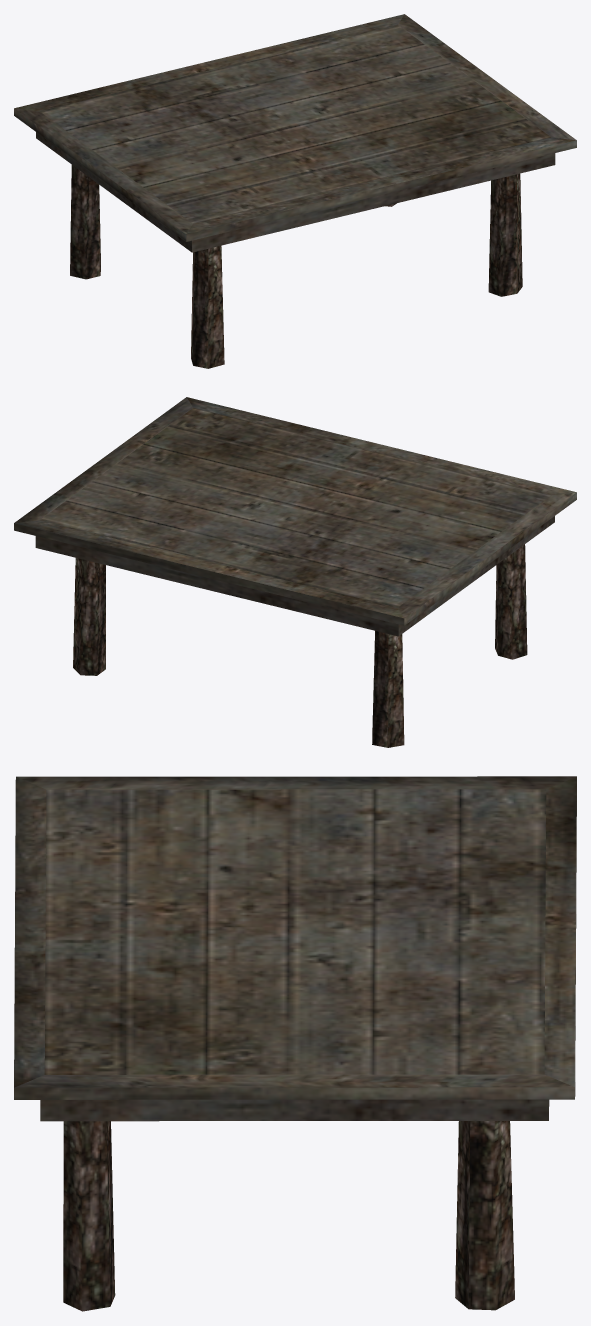
File: d_sg_shouyou_zhuozi01_qt.FBX
3 renders of one model, top to bottom at view 1: azimuth 30°, elevation 25°; view 2: azimuth 150°, elevation 25°; view 3: azimuth 270°, elevation 25°, orthographic. The views are drawn at different scales.
Parts seen in each view (by area): view 1: d_sg_shouyou_zhuzi01_qt; view 2: d_sg_shouyou_zhuzi01_qt; view 3: d_sg_shouyou_zhuzi01_qt.
Boxes of the visible parts, x1,y1,x2,y2 form: d_sg_shouyou_zhuzi01_qt: (14,14,576,368); d_sg_shouyou_zhuzi01_qt: (14,397,576,747); d_sg_shouyou_zhuzi01_qt: (14,776,576,1311).
Bounding box in the file's own units: 2.74 × 1.04 × 2.11.
